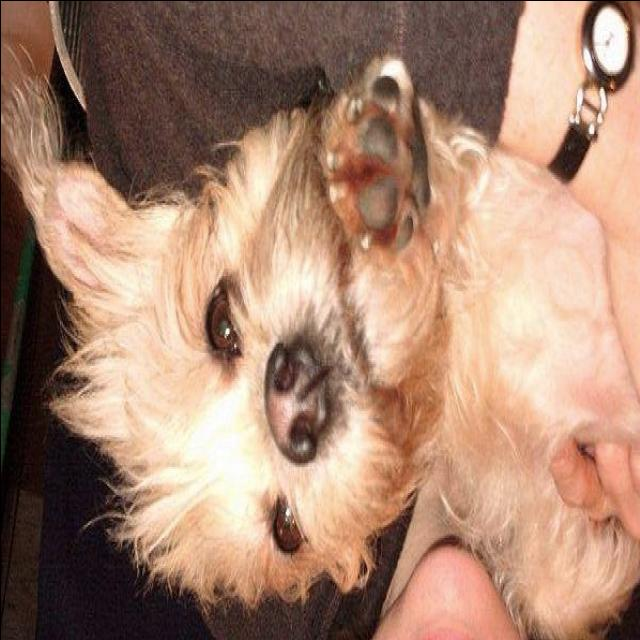dandie_dinmont: (11, 58, 638, 636)
